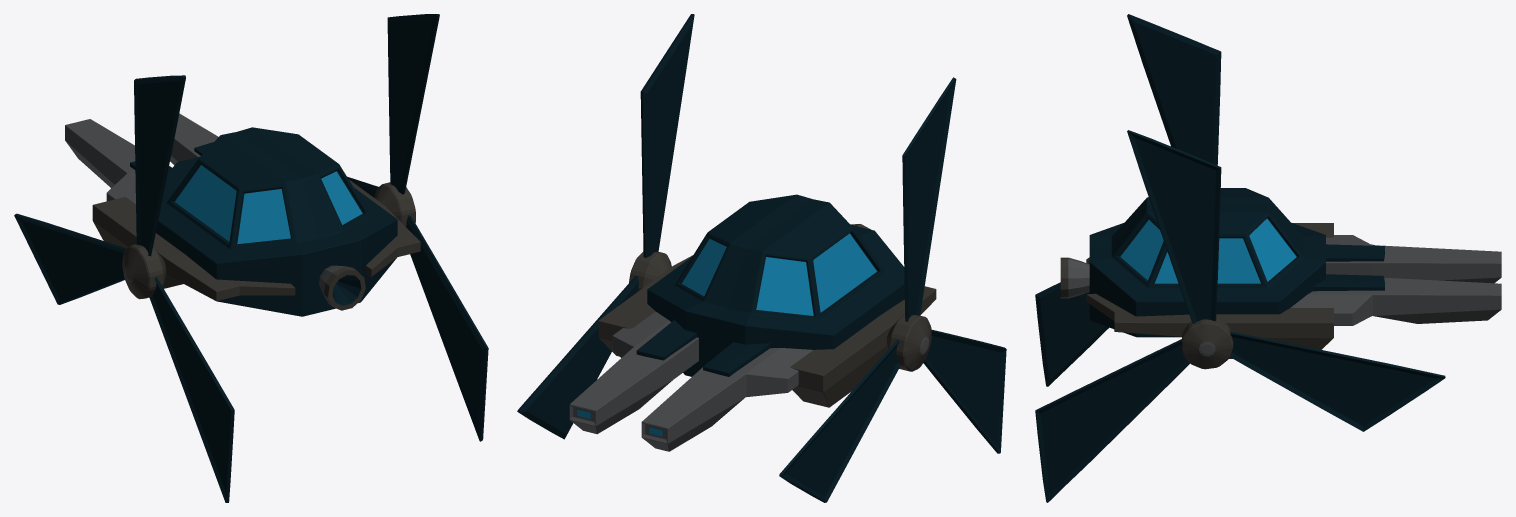
Rendered from Spaceship_02.fbx.
The picture shows the model from 3 angles, left to right: view 1: azimuth 30°, elevation 25°; view 2: azimuth 150°, elevation 25°; view 3: azimuth 270°, elevation 25°; orthographic projection. The views are drawn at different scales.
Parts seen in each view (by area): view 1: Spaceship_02_detail_05, Spaceship_02_detail_02, Spaceship_02_detail_03, Spaceship_02_Weapons, Spaceship_02_detail_01, Spaceship_02_Engine; view 2: Spaceship_02_detail_05, Spaceship_02_detail_02, Spaceship_02_Weapons, Spaceship_02_detail_03, Spaceship_02_detail_01, Spaceship_02_detail_04; view 3: Spaceship_02_detail_05, Spaceship_02_detail_02, Spaceship_02_Weapons, Spaceship_02_detail_03, Spaceship_02_detail_01, Spaceship_02_detail_04, Spaceship_02_Engine.
Part boxes in pixels (<box>): Spaceship_02_detail_05: <box>14,14,488,502</box>; Spaceship_02_detail_02: <box>156,127,397,316</box>; Spaceship_02_detail_03: <box>92,179,420,301</box>; Spaceship_02_Weapons: <box>65,113,218,203</box>; Spaceship_02_detail_01: <box>122,182,415,299</box>; Spaceship_02_Engine: <box>319,265,365,310</box>; Spaceship_02_detail_05: <box>517,14,1006,502</box>; Spaceship_02_detail_02: <box>647,194,904,376</box>; Spaceship_02_Weapons: <box>569,311,812,451</box>; Spaceship_02_detail_03: <box>598,255,936,407</box>; Spaceship_02_detail_01: <box>629,252,931,371</box>; Spaceship_02_detail_04: <box>636,320,770,376</box>; Spaceship_02_detail_05: <box>1035,14,1445,502</box>; Spaceship_02_detail_02: <box>1089,188,1325,337</box>; Spaceship_02_Weapons: <box>1291,235,1501,325</box>; Spaceship_02_detail_03: <box>1086,223,1333,358</box>; Spaceship_02_detail_01: <box>1182,318,1233,369</box>; Spaceship_02_detail_04: <box>1313,244,1384,291</box>; Spaceship_02_Engine: <box>1060,257,1089,298</box>.
Size of the model in its own units: 380 by 512 by 581.
